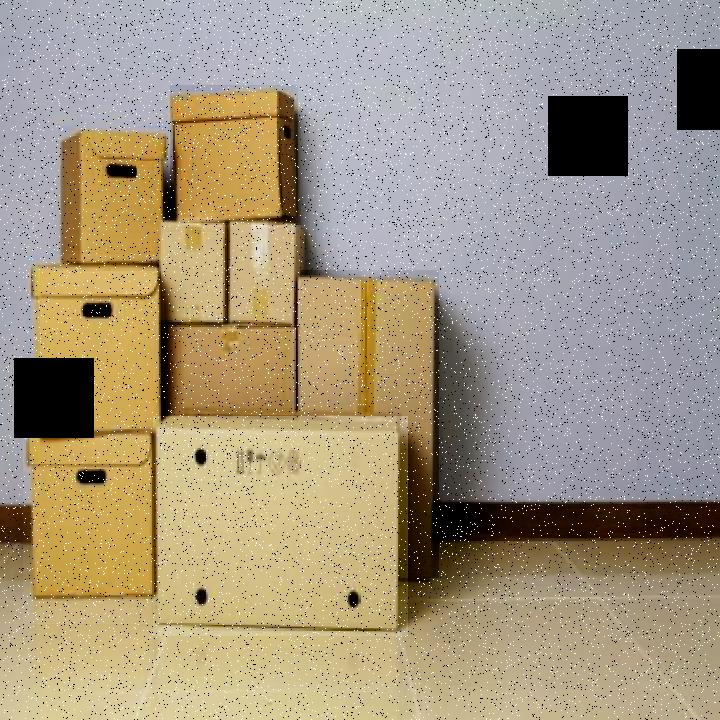box: (153, 416, 408, 636), (300, 270, 439, 578), (23, 425, 155, 624), (21, 256, 164, 426), (170, 85, 298, 218), (164, 327, 300, 428), (58, 126, 164, 255), (228, 225, 300, 331), (162, 222, 226, 323)
